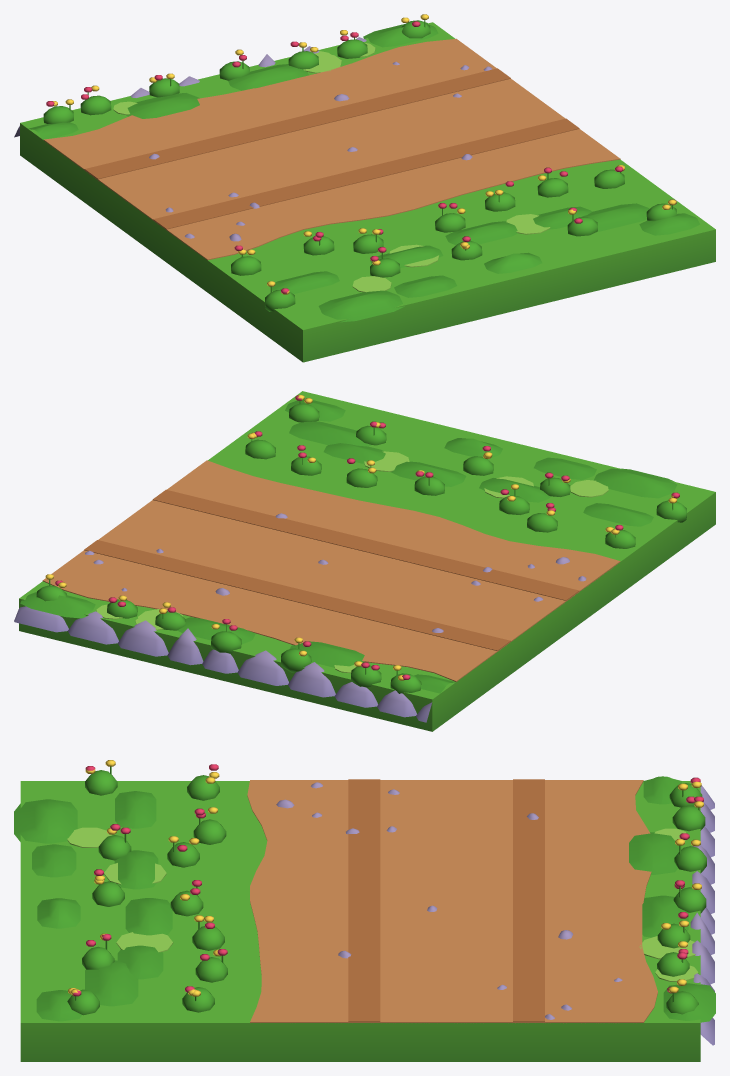
The model's file is cliff_path_tile.glb.
The picture shows the model from 3 angles, top to bottom: view 1: azimuth 30°, elevation 25°; view 2: azimuth 150°, elevation 25°; view 3: azimuth 270°, elevation 25°; orthographic projection. The views are drawn at different scales.
Parts seen in each view (by area): view 1: cliff_path_tile; view 2: cliff_path_tile; view 3: cliff_path_tile.
Part boxes in pixels (left/top/right/bottom): cliff_path_tile: left=14, top=14, right=715, bottom=362; cliff_path_tile: left=14, top=391, right=715, bottom=731; cliff_path_tile: left=14, top=760, right=715, bottom=1061.
Bounding box in the file's own units: 8.08 × 1 × 9.81.
